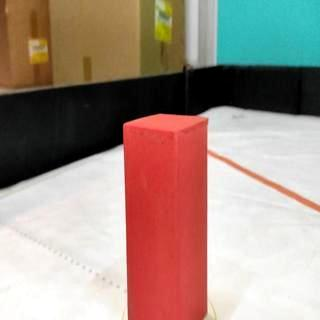redbox: (122, 111, 209, 320)
